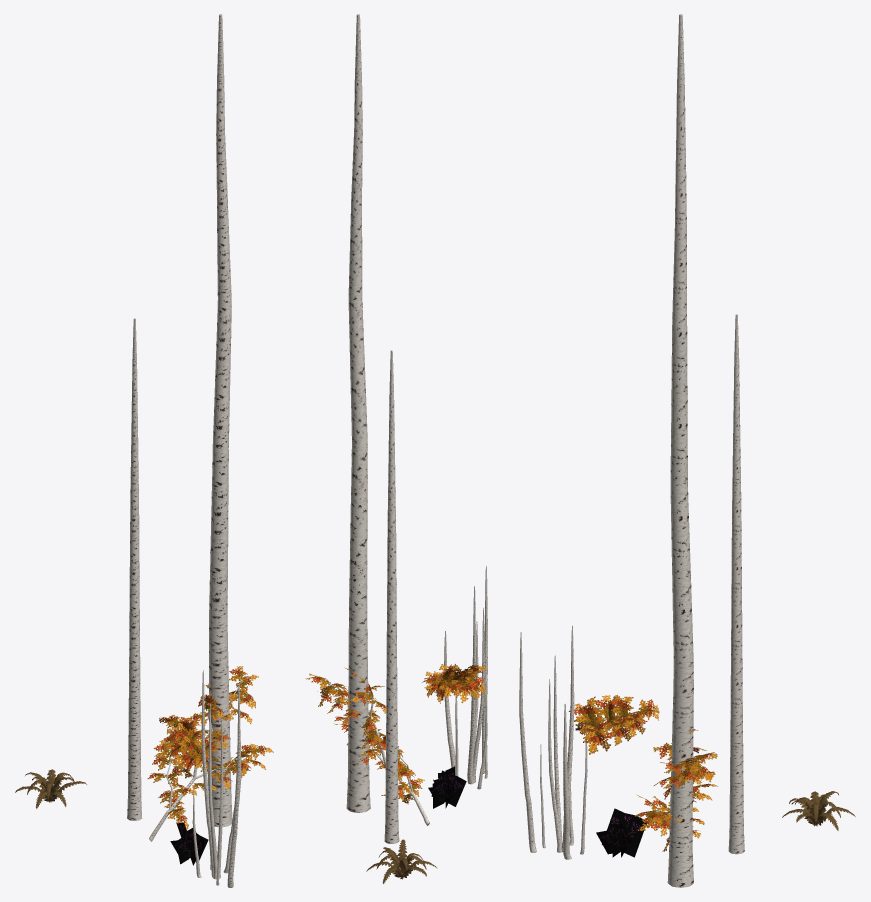
File: TREEEEEEE_alles.fbx
3 views of the same model, side by side, from view 1: azimuth 30°, elevation 25°; view 2: azimuth 150°, elevation 25°; view 3: azimuth 270°, elevation 25° (orthographic). The views are drawn at different scales.
Parts seen in each view (by area): view 1: big_tree, small_tree, group5_branch_branch_branch, wall1, branch_platform, fern, bush; view 2: big_tree, small_tree, group5_branch_branch_branch, wall1, branch_platform, fern, bush; view 3: big_tree, small_tree, wall1, branch_platform, group5_branch_branch_branch, bush, fern.
Part boxes in pixels (x1,y1,x2,y2): big_tree: (209, 14, 232, 827); small_tree: (127, 318, 142, 820); group5_branch_branch_branch: (147, 666, 273, 841); wall1: (192, 670, 241, 887); branch_platform: (159, 715, 225, 774); fern: (15, 769, 86, 808); bush: (170, 822, 208, 865); big_tree: (346, 14, 370, 812); small_tree: (384, 350, 399, 843); group5_branch_branch_branch: (305, 667, 429, 825); wall1: (444, 565, 487, 789); branch_platform: (422, 664, 486, 703); fern: (366, 839, 437, 883); bush: (428, 766, 466, 808); big_tree: (667, 14, 693, 887); small_tree: (728, 314, 744, 854); wall1: (519, 625, 587, 859); branch_platform: (568, 694, 659, 754); group5_branch_branch_branch: (634, 729, 717, 851); bush: (596, 808, 646, 857); fern: (782, 791, 855, 830).
Size of the model in its own units: 11.35 by 48.07 by 16.87.
